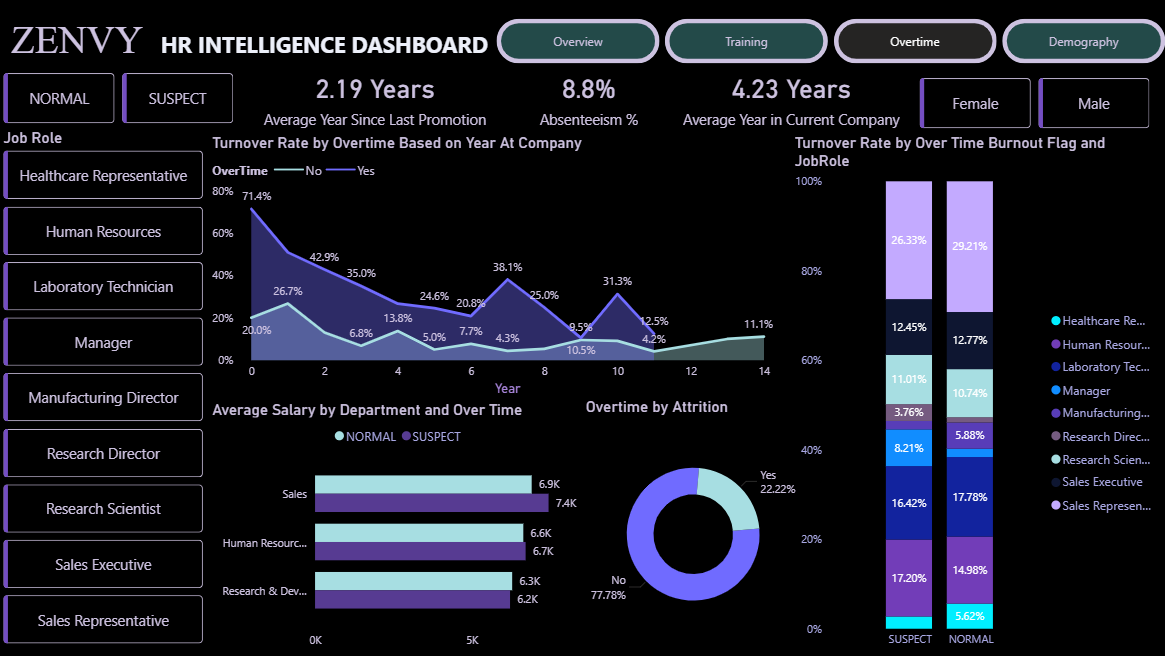

The dashboard page shown, as its layout file describes it:
{"tool":"powerbi","page":{"name":"Overtime","canvas":[1280,720],"ordinal":2},"visuals":[{"type":"card","fields":{"Values":["_Measures.Curr Role Years_With_Text"]},"box":[734.1,45.7,271.7,122.1],"z":0},{"type":"clusteredBarChart","title":"Average Salary by Department and Over Time","fields":{"Category":["clean HR data.Department"],"Series":["clean HR data.OT Burnout Flag"],"Y":["_Measures.Average Salary"]},"box":[229.2,439.1,421.3,281.3],"z":1000},{"type":"hundredPercentStackedColumnChart","title":"Turnover Rate by Over Time Burnout Flag and JobRole","fields":{"Series":["clean HR data.JobRole"],"Y":["_Measures.Turnover Rate"],"Category":["clean HR data.OT Burnout Flag"]},"box":[868.6,146.8,411.7,573.6],"z":2000},{"type":"advancedSlicerVisual","fields":{"Values":["clean HR data.Gender"]},"box":[1005.8,81,263.5,65.9],"z":3000},{"type":"textbox","box":[8.2,13.7,558.5,63.1],"z":4000},{"type":"card","fields":{"Values":["_Measures.Absenteeism_With_Text"]},"box":[568.8,56.7,159.2,100.2],"z":5000},{"type":"areaChart","title":"Turnover Rate by Overtime Based on Year At Company","fields":{"Y":["_Measures.Turnover Rate"],"Category":["clean HR data.YearsAtCompany"],"Series":["clean HR data.OverTime"]},"box":[229.2,146.8,625.7,292.3],"z":6000},{"type":"donutChart","title":"Overtime by Attrition","fields":{"Category":["clean HR data.OverTime"],"Y":["CountNonNull(clean HR data.Attrition)"]},"box":[639.5,436.4,245.6,281.3],"z":7000},{"type":"card","fields":{"Values":["_Measures.Average Year Since Last Promotion Text"]},"box":[263.5,45.7,299.1,122.1],"z":8000},{"type":"advancedSlicerVisual","fields":{"Values":["clean HR data.OT Burnout Flag"]},"box":[0,75.5,263.5,65.9],"z":9000},{"type":"advancedSlicerVisual","title":"Job Role","fields":{"Values":["clean HR data.JobRole"]},"box":[0,141.3,229.2,576.3],"z":10000},{"type":"pageNavigator","box":[545.9,20.6,734.1,49.4],"z":11000}]}

Visuals, with their boxes in screenshot pixels (x1, y1, x2, y2), scaled from the page's 1280x720 canvas onto the 1165x656 screenshot:
card - _Measures.Curr Role Years_With_Text: (668,42,915,153)
"Average Salary by Department and Over Time" clusteredBarChart: (209,400,592,655)
"Turnover Rate by Over Time Burnout Flag and JobRole" hundredPercentStackedColumnChart: (791,134,1164,655)
advancedSlicerVisual - clean HR data.Gender: (915,74,1155,134)
textbox: (7,12,516,70)
card - _Measures.Absenteeism_With_Text: (518,52,663,143)
"Turnover Rate by Overtime Based on Year At Company" areaChart: (209,134,778,400)
"Overtime by Attrition" donutChart: (582,398,806,654)
card - _Measures.Average Year Since Last Promotion Text: (240,42,512,153)
advancedSlicerVisual - clean HR data.OT Burnout Flag: (0,69,240,129)
"Job Role" advancedSlicerVisual: (0,129,209,654)
pageNavigator: (497,19,1164,64)
